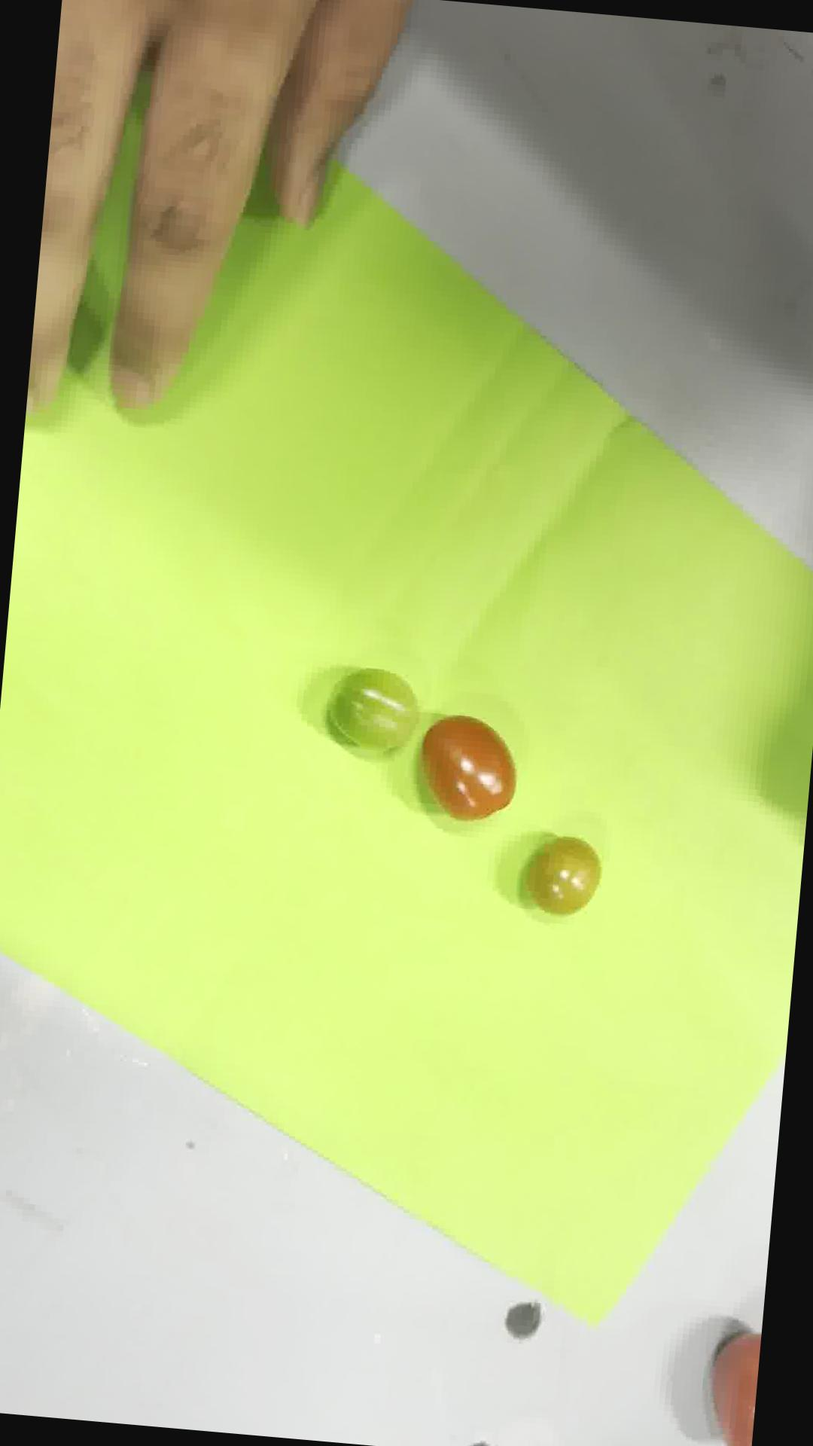green_cherry_tomato: (327, 668, 419, 755)
red_cherry_tomato: (421, 715, 515, 821)
yellow_cherry_tomato: (523, 835, 600, 915)
